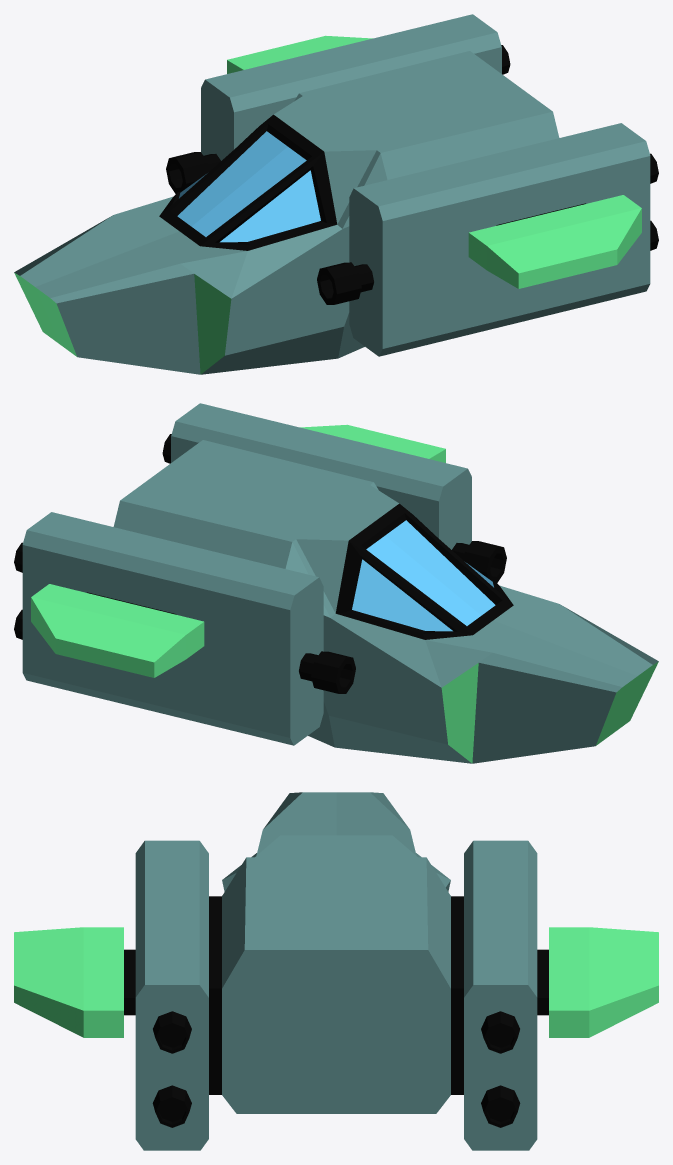
Rendered from gunship2.fbx.
3 views of the same model, one above another, from view 1: azimuth 30°, elevation 25°; view 2: azimuth 150°, elevation 25°; view 3: azimuth 270°, elevation 25° (orthographic). The views are drawn at different scales.
Visible parts, largest first — view 1: Gunship2; view 2: Gunship2; view 3: Gunship2.
Part boxes in pixels (bbox=[...]): Gunship2: bbox=[14, 14, 658, 374]; Gunship2: bbox=[14, 403, 658, 763]; Gunship2: bbox=[14, 792, 658, 1150].
Size of the model in its own units: 576 by 200 by 537.
